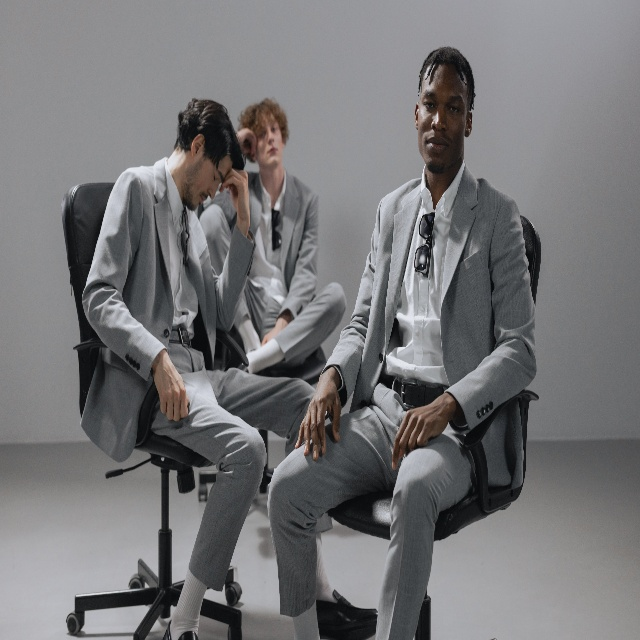Gafas: (415, 213, 436, 274), (269, 206, 283, 255), (181, 208, 191, 264)
Sin_guantes: (391, 397, 449, 470), (294, 371, 341, 459), (156, 357, 190, 422), (222, 172, 251, 226), (262, 316, 290, 344)
